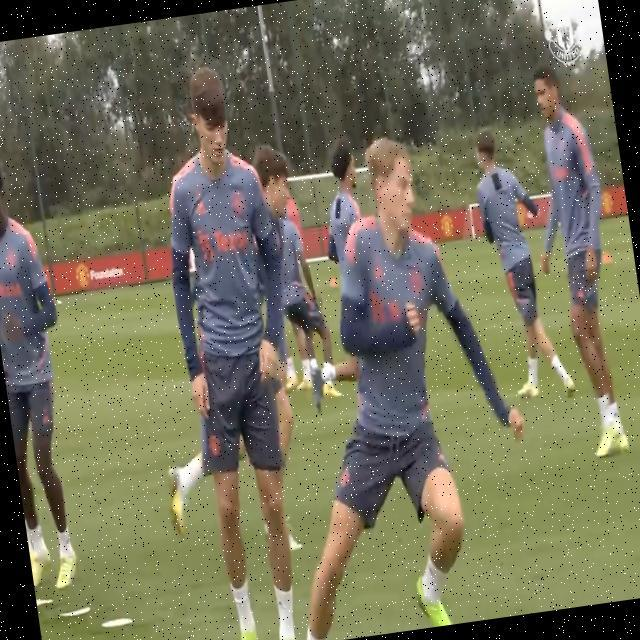Adidas: (194, 198, 208, 218)
